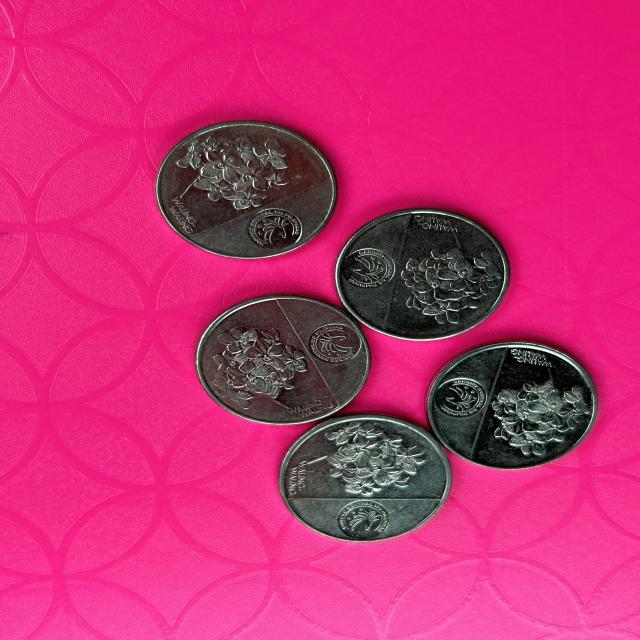1_New_Back: (311, 423, 425, 499), (398, 235, 495, 323), (178, 134, 292, 208), (211, 326, 302, 408), (492, 371, 580, 454)
